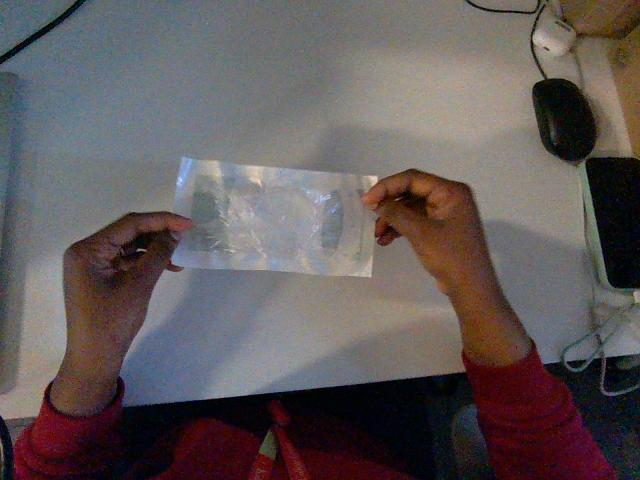gallipot: (173, 158, 376, 276)
